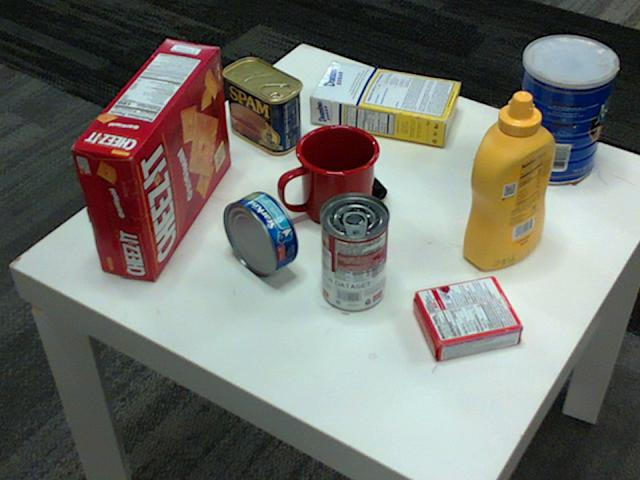cracker_box: (71, 36, 231, 278)
gelatin_box: (411, 277, 523, 361)
large_marker: (333, 136, 385, 199)
master_chef_can: (507, 35, 617, 184)
mug: (281, 122, 380, 224)
mustard_bottle: (462, 92, 555, 268)
potted_meat_can: (220, 59, 302, 154)
sugar_box: (310, 61, 463, 145)
tomato_soup_can: (320, 192, 390, 311)
tuna_fish_can: (224, 191, 298, 277)
